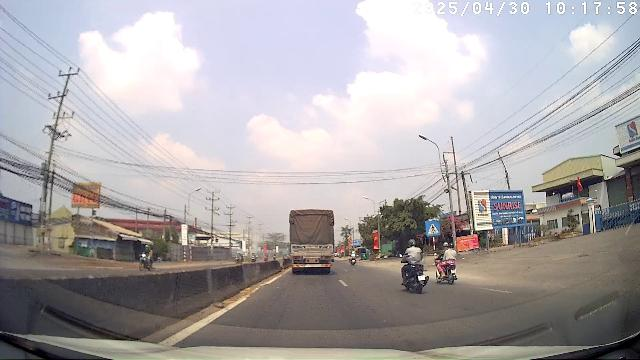423a-duong-nguoi-di-bo-sang-ngang-1: (426, 221, 440, 236)
